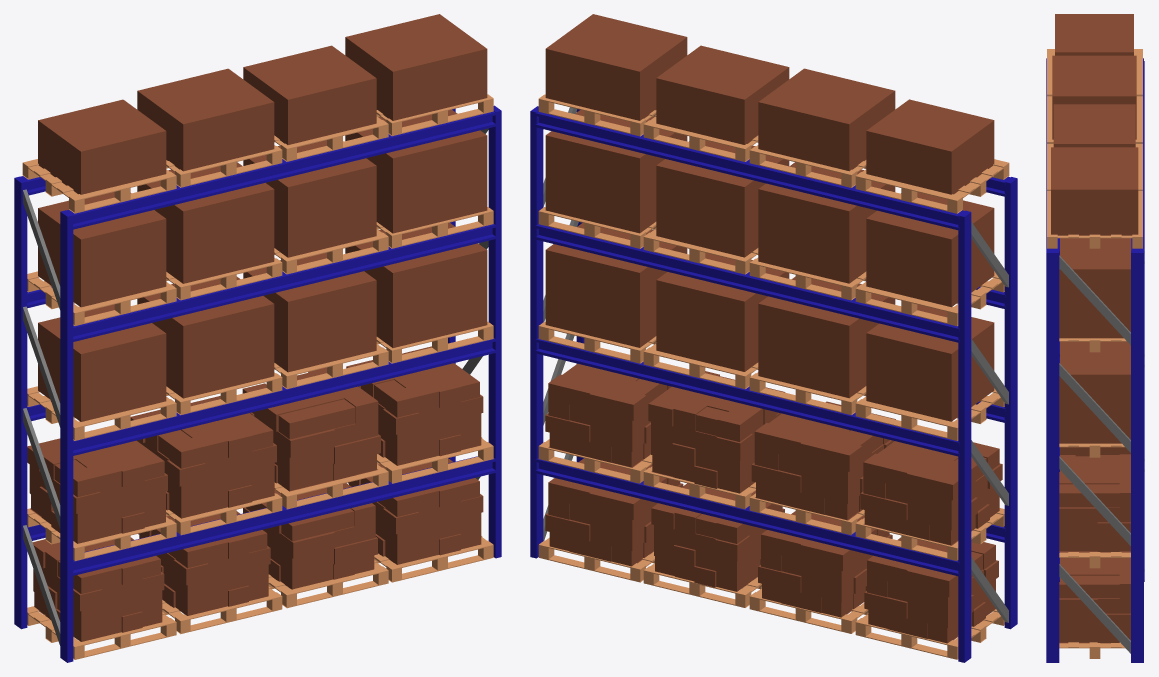
Rendered from Storage_Shelf_Walls.fbx.
3 views of the same model, side by side, from view 1: azimuth 30°, elevation 25°; view 2: azimuth 150°, elevation 25°; view 3: azimuth 270°, elevation 25° (orthographic). The views are drawn at different scales.
Visible parts, largest first — view 1: Low_Poly_Box_011, Detailed_Box_005, Detailed_Box_004, Low_Poly_Box_009, Low_Poly_Box_003, Detailed_Box_006, Low_Poly_Box_007, Low_Poly_Box_001, Low_Poly_Box_008, Low_Poly_Box_000, Low_Poly_Box_005, Low_Poly_Box_004 (+39 smaller); view 2: Low_Poly_Box_011, Detailed_Box_004, Detailed_Box_005, Low_Poly_Box_009, Low_Poly_Box_003, Detailed_Box_006, Low_Poly_Box_007, Low_Poly_Box_001, Low_Poly_Box_008, Low_Poly_Box_000, Detailed_Box_007, Low_Poly_Box_004 (+35 smaller); view 3: Low_Poly_Box_011, Low_Poly_Box_003, Low_Poly_Box_007, Detailed_Box_007, Shelf_Frame001, Shelf_Frame003, Detailed_Box_000, Low_Poly_Box_009, Low_Poly_Box_010, Low_Poly_Box_008, Pallet_000, Cross_Support_000 (+14 smaller).
Boxes of the visible parts, x1,y1,x2,y2 form: Low_Poly_Box_011: (345, 14, 487, 120); Detailed_Box_005: (130, 396, 276, 518); Detailed_Box_004: (27, 438, 167, 543); Low_Poly_Box_009: (137, 68, 274, 171); Low_Poly_Box_003: (345, 222, 487, 347); Detailed_Box_006: (242, 367, 380, 491); Low_Poly_Box_007: (345, 109, 487, 233); Low_Poly_Box_001: (137, 276, 274, 398); Low_Poly_Box_008: (38, 99, 166, 194); Low_Poly_Box_000: (38, 304, 166, 421); Low_Poly_Box_005: (137, 162, 274, 283); Low_Poly_Box_004: (38, 192, 166, 307); Low_Poly_Box_011: (545, 14, 687, 120); Detailed_Box_004: (860, 441, 1002, 545); Detailed_Box_005: (751, 401, 895, 520); Low_Poly_Box_009: (758, 68, 895, 171); Low_Poly_Box_003: (545, 223, 687, 347); Detailed_Box_006: (648, 371, 785, 493); Low_Poly_Box_007: (545, 110, 687, 233); Low_Poly_Box_001: (758, 276, 895, 398); Low_Poly_Box_008: (866, 99, 994, 194); Low_Poly_Box_000: (866, 304, 994, 421); Detailed_Box_007: (545, 363, 671, 467); Low_Poly_Box_004: (866, 192, 994, 307); Low_Poly_Box_011: (1051, 147, 1138, 235); Low_Poly_Box_003: (1059, 341, 1130, 443); Low_Poly_Box_007: (1059, 238, 1131, 338); Detailed_Box_007: (1059, 454, 1130, 551); Shelf_Frame001: (1046, 250, 1059, 662); Shelf_Frame003: (1131, 250, 1143, 662); Detailed_Box_000: (1059, 552, 1130, 643); Low_Poly_Box_009: (1052, 55, 1136, 139); Low_Poly_Box_010: (1053, 104, 1135, 147); Low_Poly_Box_008: (1055, 14, 1133, 55); Pallet_000: (1047, 191, 1142, 248); Cross_Support_000: (1059, 456, 1130, 545).
Bounding box in the file's own units: 426 × 477 × 90.61.
